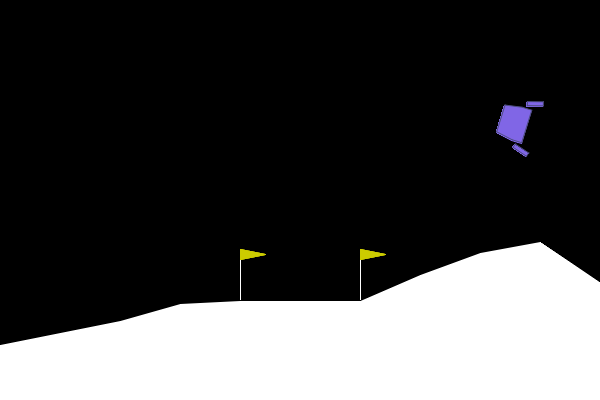lander: (489, 90, 545, 159)
